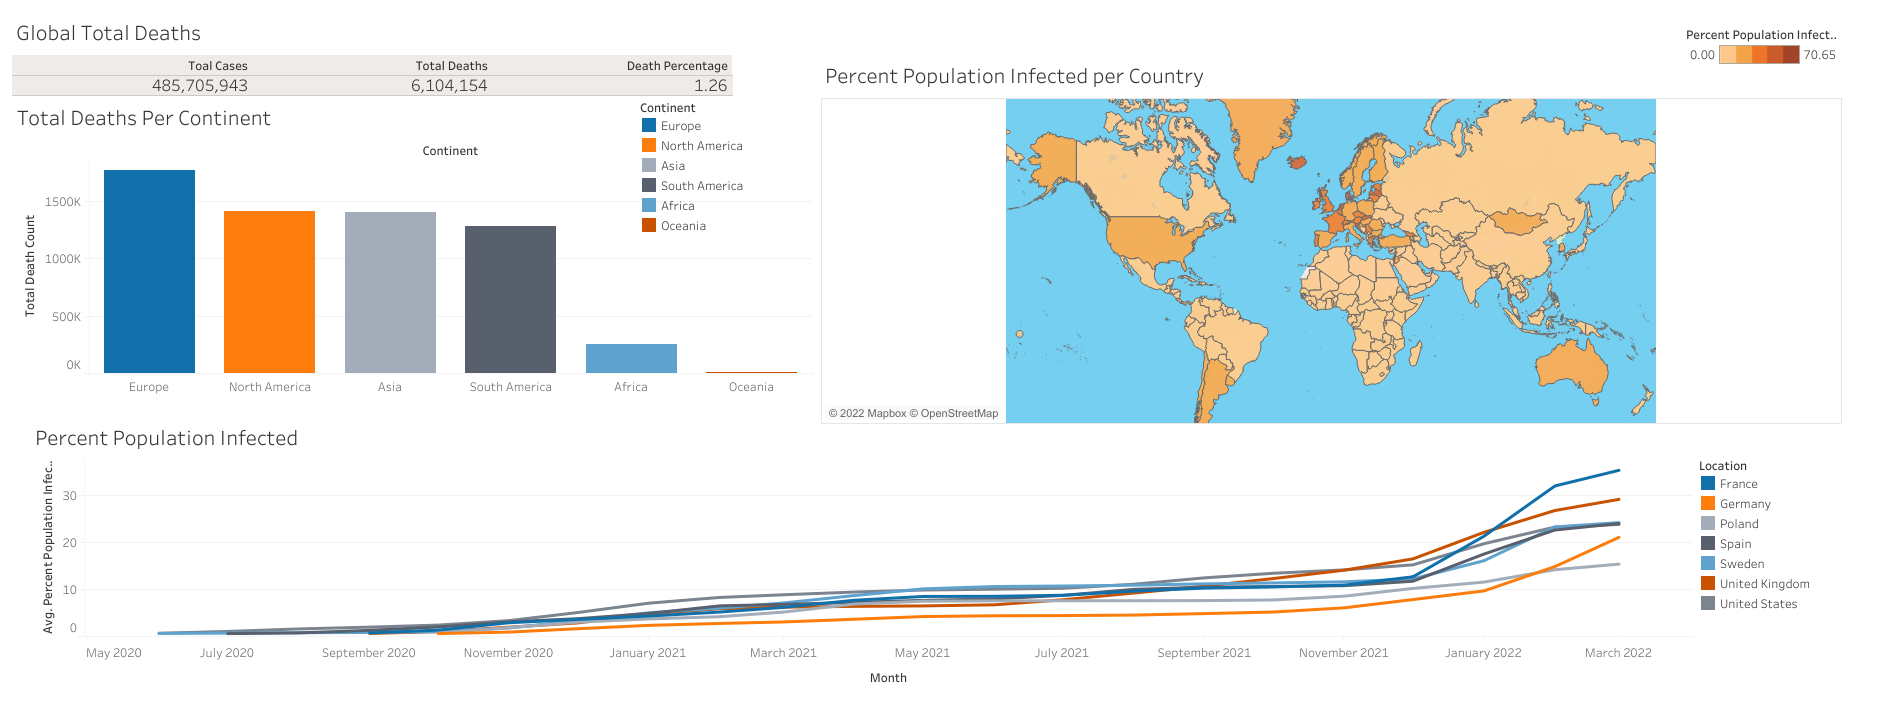

Layout of this report page (visuals, bound fields, positions):
{"tool":"tableau","page":{"name":"Dashboard 1","canvas":[1000,1000],"units":"permille","ordinal":0},"visuals":[{"type":"worksheet","title":"Sheet 1","mark":"Automatic","box":[4.7,11.1,990.6,977.9]},{"type":"legend","title":"Sheet 3","param":"[federated.0t8vye20uwtegv159mbre1k1o4wk].[sum:PercentPopulationInfected:qk]","box":[895.7,29.4,82.5,102.4]},{"type":"worksheet","title":"Sheet 3","mark":"Automatic","box":[436.1,76,542.7,509.7]},{"type":"legend","title":"Sheet 2","param":"[federated.0xeov130uf3qg11dqbu5l1k259ek].[none:location:nk]","box":[339.4,133.2,82.5,203.6]},{"type":"worksheet","title":"Sheet 2","mark":"Automatic","rows":["TotalDeathCount"],"cols":["location"],"box":[7.1,134,424.3,436.5]},{"type":"worksheet","title":"Sheet 4","mark":"Automatic","rows":["PercentPopulationInfected"],"cols":["date"],"box":[16.5,576,883.3,381.2]},{"type":"legend","title":"Sheet 4","param":"[federated.1wo0tkp1nitra51g0bqtn0zsmngf].[none:Location:nk]","box":[902.2,627.1,82.5,236.2]}]}

Visuals, with their boxes on the dashboard's canvas, which has no fixed pixel size, in thousandths of its width and height (x1, y1, x2, y2). These are canvas units, not pixel positions in the 1881x723 screenshot, which may show the page scaled, cropped or inside an application window:
"Sheet 1" worksheet: <bbox>5, 11, 995, 989</bbox>
"Sheet 3" legend: <bbox>896, 29, 978, 132</bbox>
"Sheet 3" worksheet: <bbox>436, 76, 979, 586</bbox>
"Sheet 2" legend: <bbox>339, 133, 422, 337</bbox>
"Sheet 2" worksheet: <bbox>7, 134, 431, 570</bbox>
"Sheet 4" worksheet: <bbox>16, 576, 900, 957</bbox>
"Sheet 4" legend: <bbox>902, 627, 985, 863</bbox>
